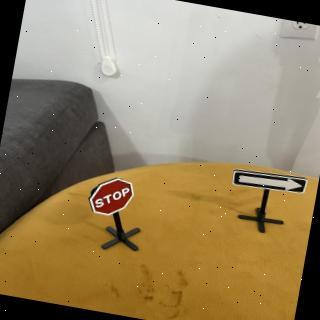sign_oneway_right: (231, 166, 312, 201)
sign_stop: (88, 174, 139, 221)
